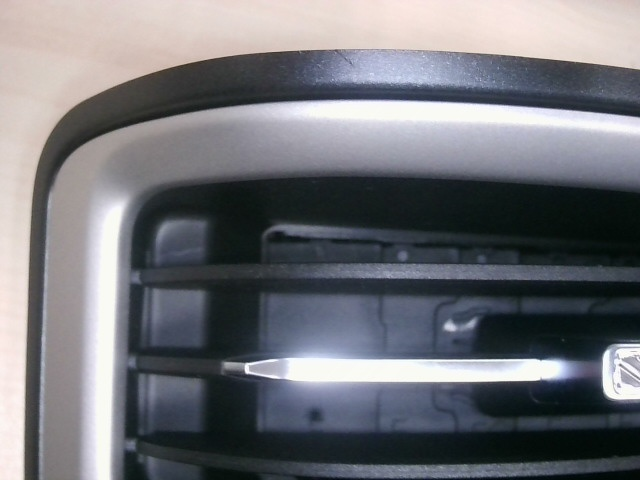NG: (323, 45, 378, 101)
